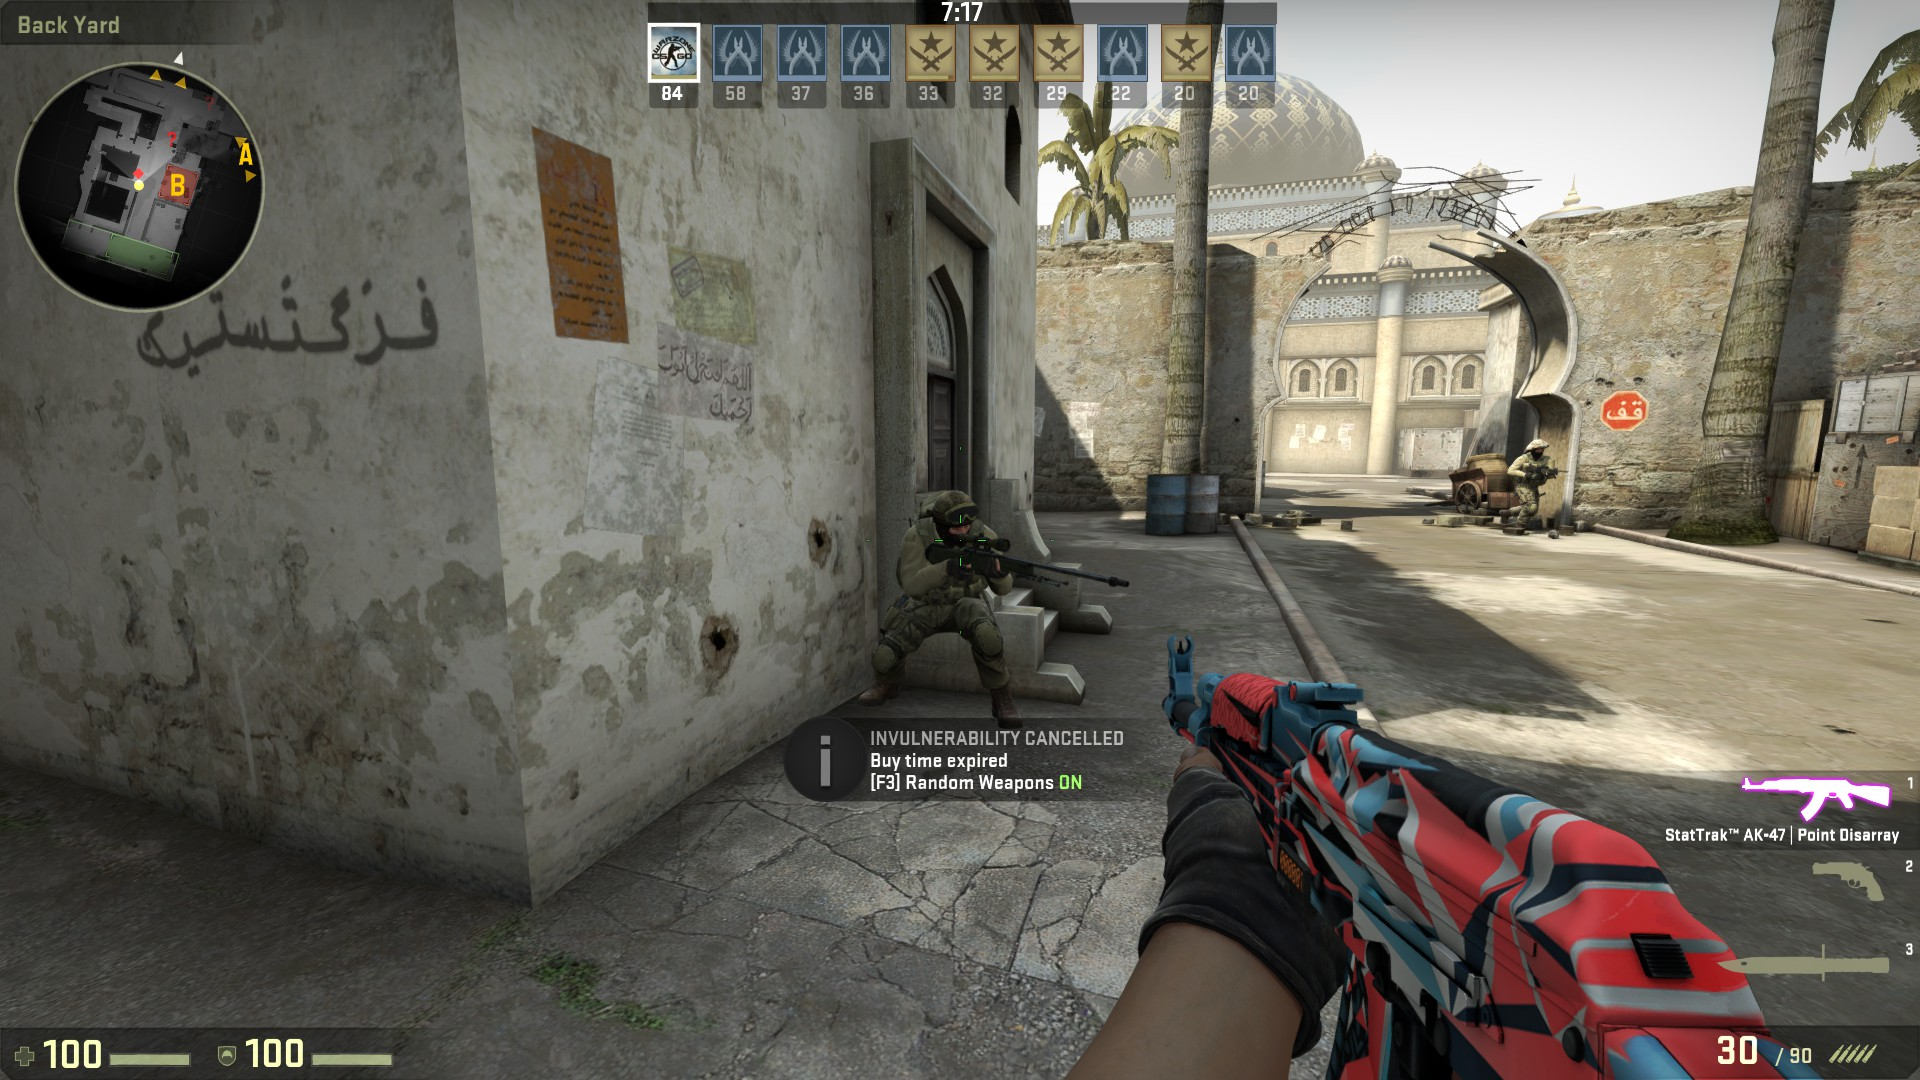c: (858, 487, 1021, 732), (1499, 436, 1557, 535)
ch: (926, 485, 982, 549), (1527, 438, 1549, 462)
